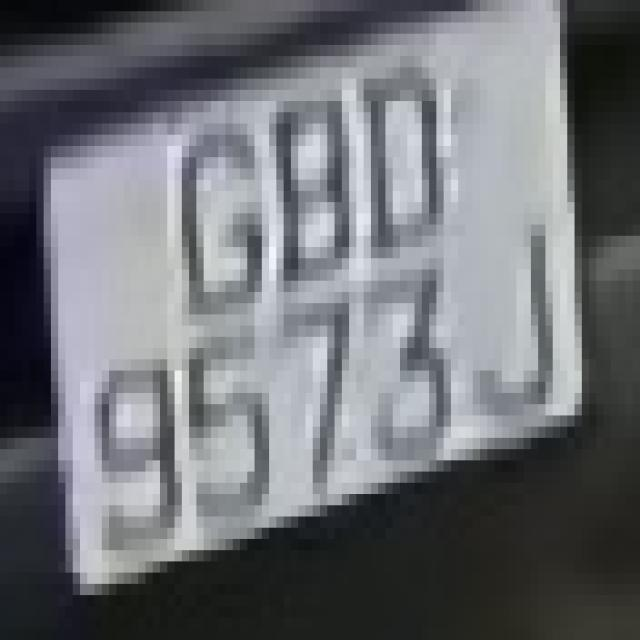3: (334, 236, 466, 494)
5: (167, 314, 291, 550)
7: (240, 292, 356, 539)
9: (73, 337, 189, 584)
B: (262, 67, 356, 326)
D: (349, 56, 466, 281)
G: (168, 90, 276, 348)
J: (451, 202, 560, 427)
